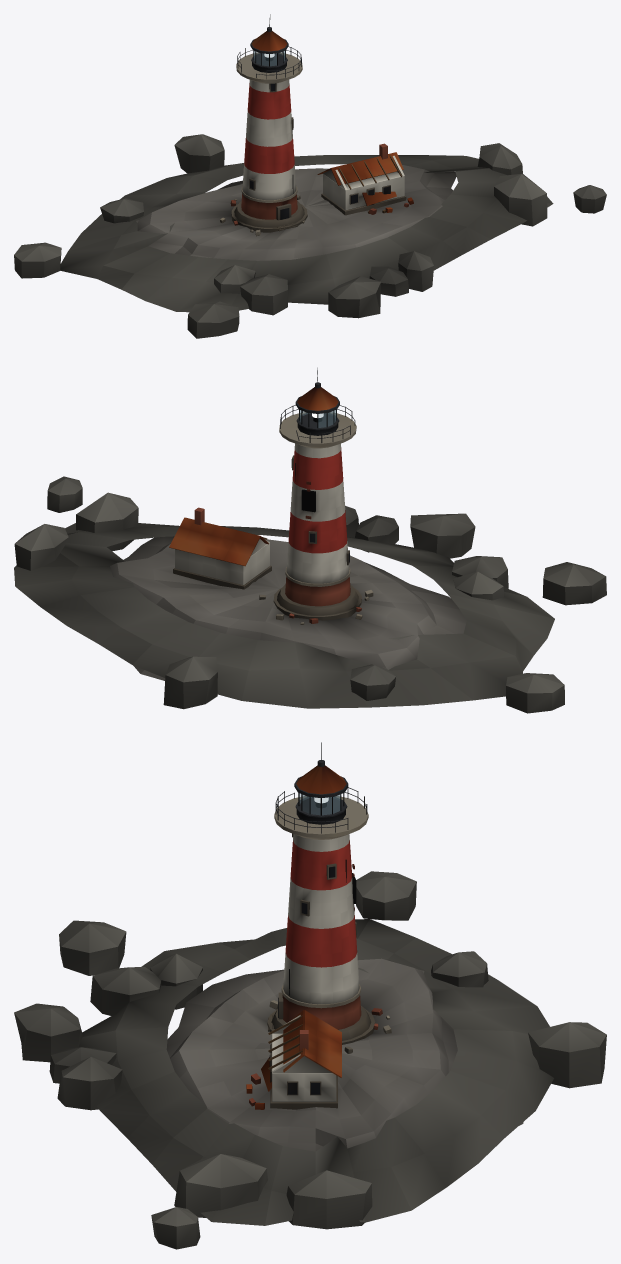
Rendered from lighthouse.glb.
The picture shows the model from 3 angles, top to bottom: view 1: azimuth 30°, elevation 25°; view 2: azimuth 150°, elevation 25°; view 3: azimuth 270°, elevation 25°; orthographic projection. The views are drawn at different scales.
Parts seen in each view (by area): view 1: rock_grey, paint, paint2, rust, concrete_dark, metal_dark, concrete, brick; view 2: rock_grey, paint, paint2, rust, concrete_dark, concrete, metal_dark, brick; view 3: rock_grey, paint, paint2, rust, concrete, metal_dark, concrete_dark, brick.
Boxes of the visible parts, left/top/right/bottom form: rock_grey: left=14, top=134, right=606, bottom=338; paint: left=242, top=79, right=404, bottom=210; paint2: left=244, top=83, right=294, bottom=173; rust: left=252, top=31, right=413, bottom=212; concrete_dark: left=231, top=83, right=406, bottom=232; metal_dark: left=237, top=27, right=390, bottom=219; concrete: left=220, top=52, right=304, bottom=236; brick: left=230, top=143, right=409, bottom=225; rock_grey: left=14, top=476, right=606, bottom=713; paint: left=175, top=443, right=349, bottom=585; paint2: left=288, top=448, right=347, bottom=553; rust: left=169, top=387, right=338, bottom=566; concrete_dark: left=173, top=455, right=361, bottom=620; concrete: left=259, top=412, right=373, bottom=624; metal_dark: left=280, top=382, right=355, bottom=562; brick: left=194, top=481, right=361, bottom=623; rock_grey: left=14, top=871, right=606, bottom=1249; paint: left=272, top=834, right=359, bottom=1101; paint2: left=285, top=840, right=357, bottom=967; rust: left=246, top=765, right=346, bottom=1109; concrete: left=269, top=796, right=391, bottom=1053; metal_dark: left=269, top=760, right=367, bottom=1094; concrete_dark: left=267, top=833, right=375, bottom=1109; brick: left=249, top=864, right=382, bottom=1106.
Size of what is drawn, in the model's own units: 72.72 by 31.3 by 51.62.
